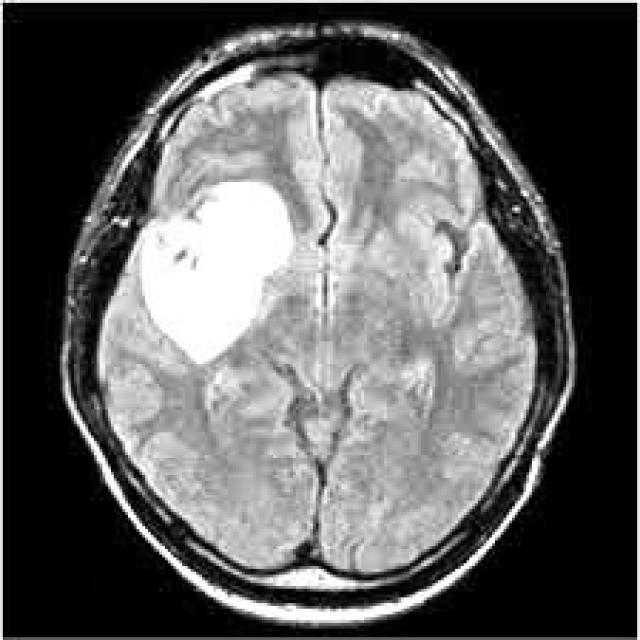Tumor-Cell: (127, 160, 296, 360)
